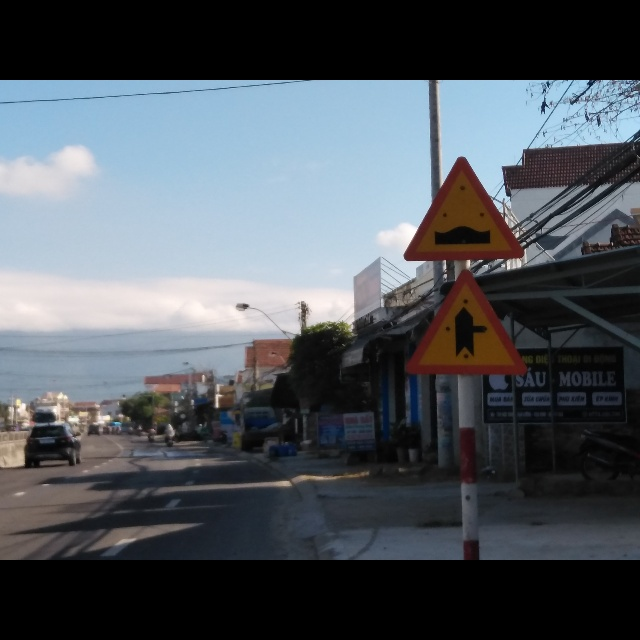Giao nhau với đường không ưu tiên: (407, 266, 527, 375)
Đường không bằng phẳng: (404, 153, 525, 264)
